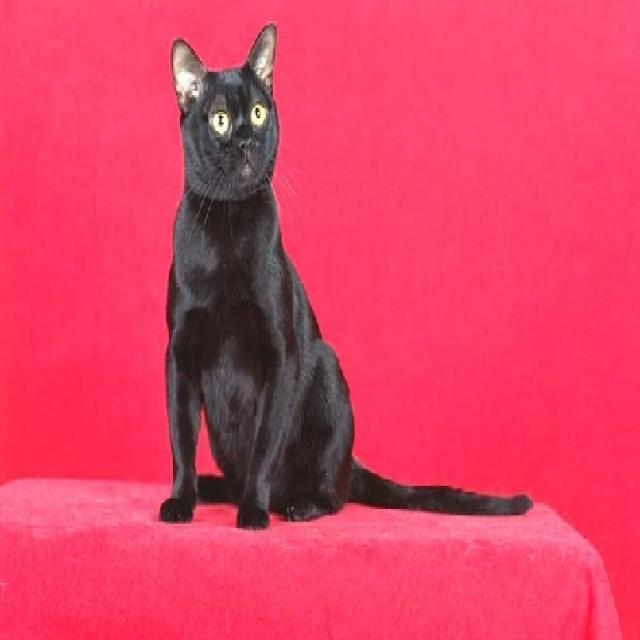Bombay: (170, 21, 276, 188)
